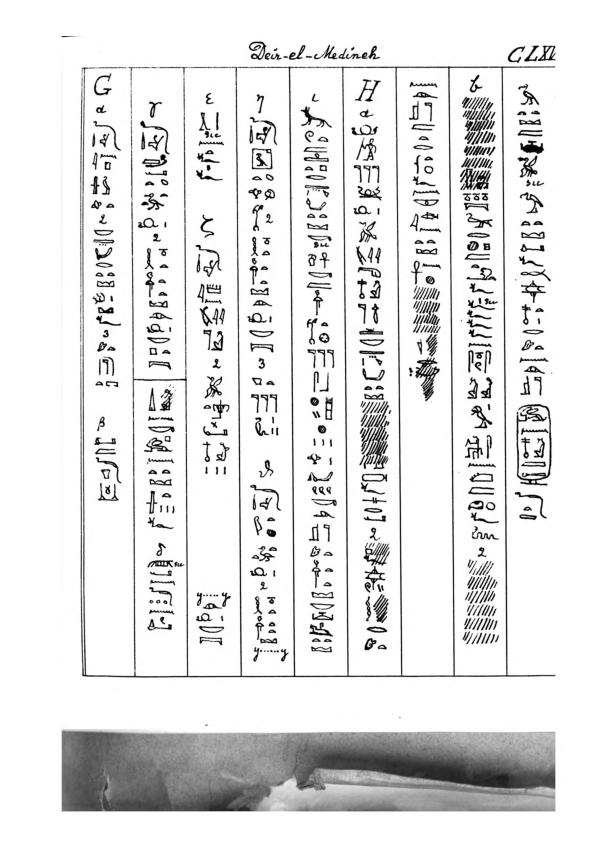circle: (512, 403, 553, 489)
